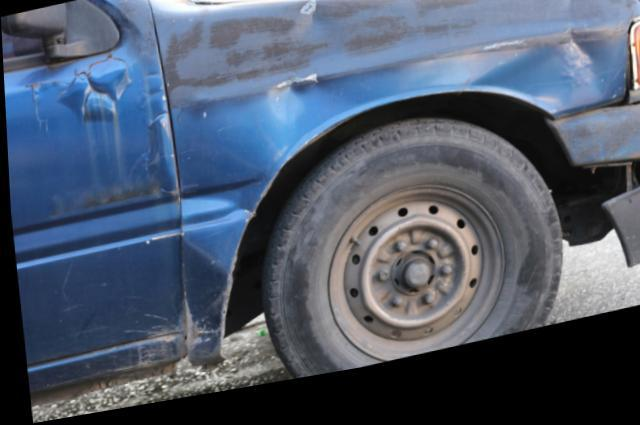dent: (460, 52, 614, 136), (265, 85, 364, 172), (179, 182, 263, 279)
dislocated part: (574, 178, 640, 288)
